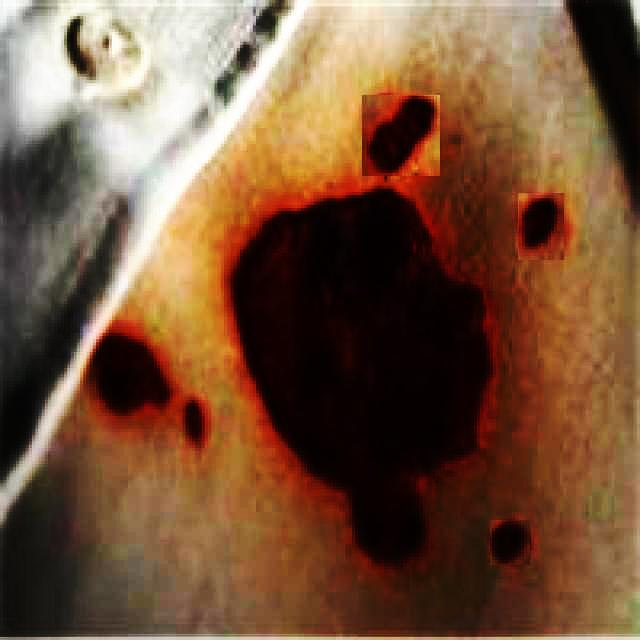Corrosion: (234, 190, 490, 560), (95, 336, 162, 408), (372, 98, 432, 170), (523, 194, 563, 246), (493, 527, 523, 557), (185, 404, 203, 442)
